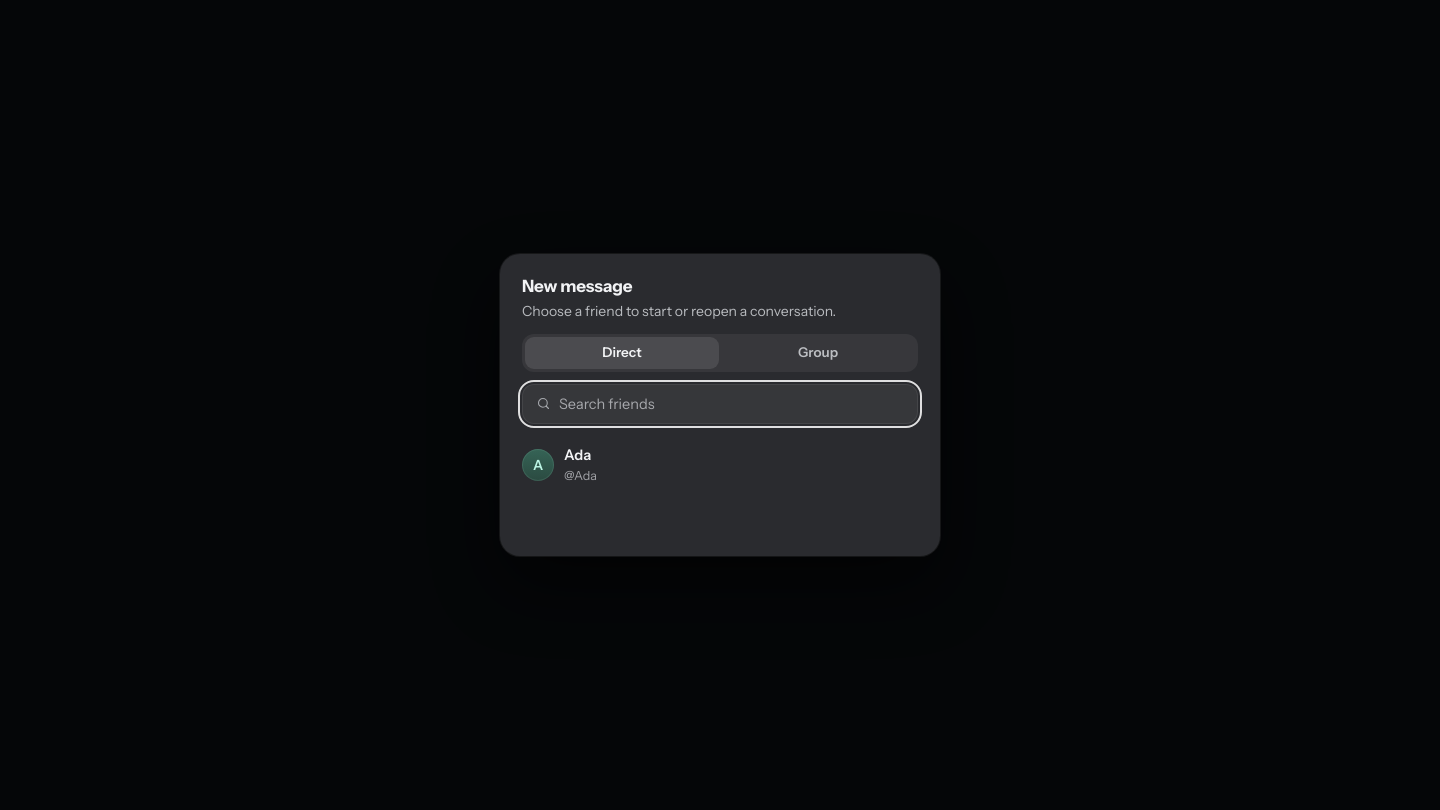
Test: DmPickerModal › is the New message dialog: one cream button, only in the group half
Expected: the dialog "New message" is shown, [500,254,940,556]
Click the tab "Group". click: click(818, 353)
box: [721,337,915,369]
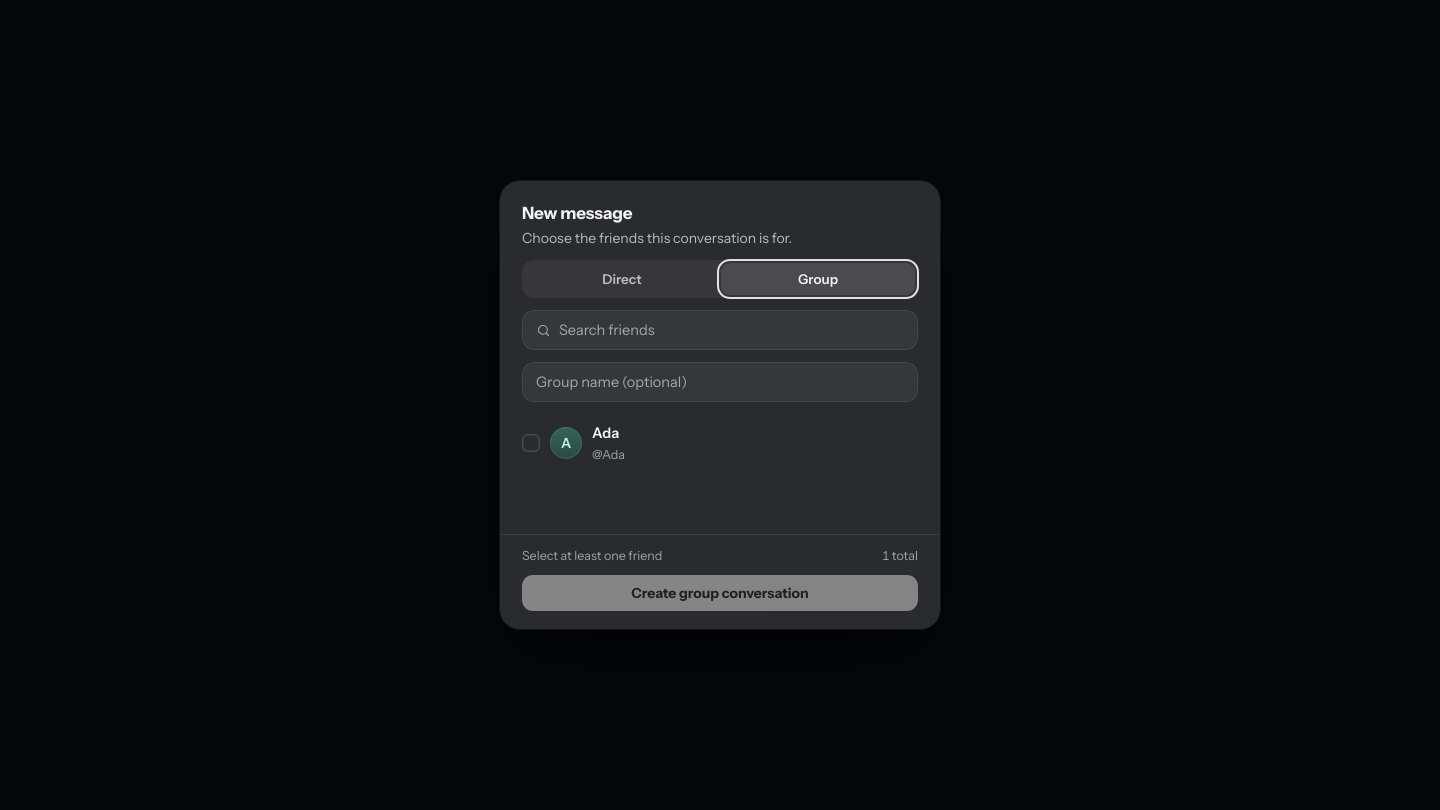
Expected: the number of buttons with class "ix-cream" is 1, [522,576,918,612]
